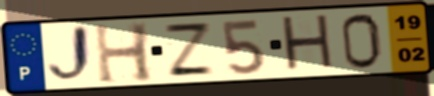0: (338, 11, 384, 70)
5: (219, 17, 269, 76)
H: (92, 22, 156, 86), (278, 12, 338, 75)
J: (45, 23, 96, 87)
Z: (161, 21, 218, 78)
